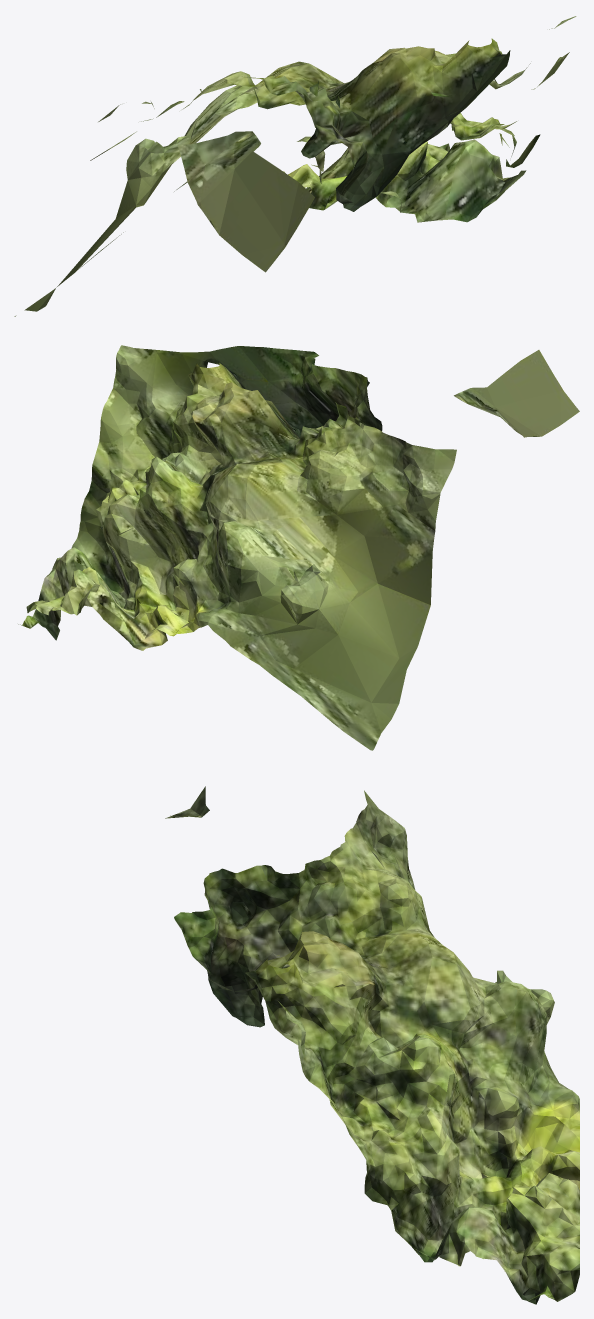
3 views of the same model, one above another, from view 1: azimuth 30°, elevation 25°; view 2: azimuth 150°, elevation 25°; view 3: azimuth 270°, elevation 25° (orthographic). The views are drawn at different scales.
Bounding box in the file's own units: 26.11 × 16.66 × 26.11.
3 materials, 3 textured.
